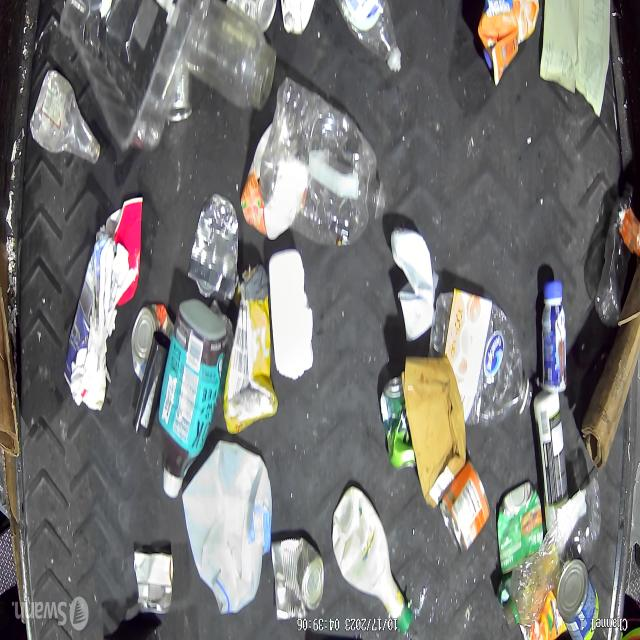can: (186, 192, 238, 303), (440, 459, 490, 553), (272, 533, 323, 620), (377, 372, 414, 472), (556, 558, 600, 640), (130, 302, 163, 381)
milk_jug: (183, 440, 268, 610)
non_white_jug: (477, 0, 540, 88), (495, 478, 544, 572)
plastic_bottle: (435, 290, 533, 426), (595, 182, 635, 330), (324, 0, 401, 76)
